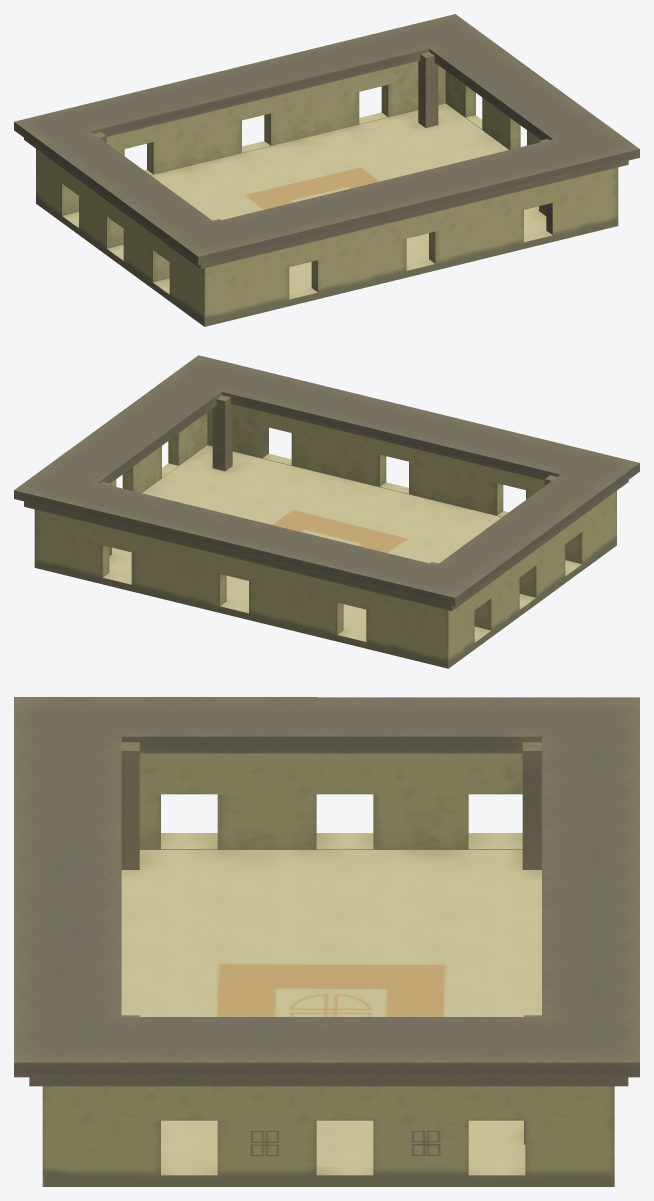
The model's file is mercado texturizado.fbx.
3 renders of one model, top to bottom at view 1: azimuth 30°, elevation 25°; view 2: azimuth 150°, elevation 25°; view 3: azimuth 270°, elevation 25°, orthographic. The views are drawn at different scales.
Visible parts, largest first — view 1: Cube.002; view 2: Cube.002; view 3: Cube.002.
Boxes of the visible parts, x1,y1,x2,y2 form: Cube.002: (14, 14, 639, 326); Cube.002: (14, 355, 639, 668); Cube.002: (14, 697, 639, 1186).
Bounding box in the file's own units: 7874 × 1360 × 5701.
